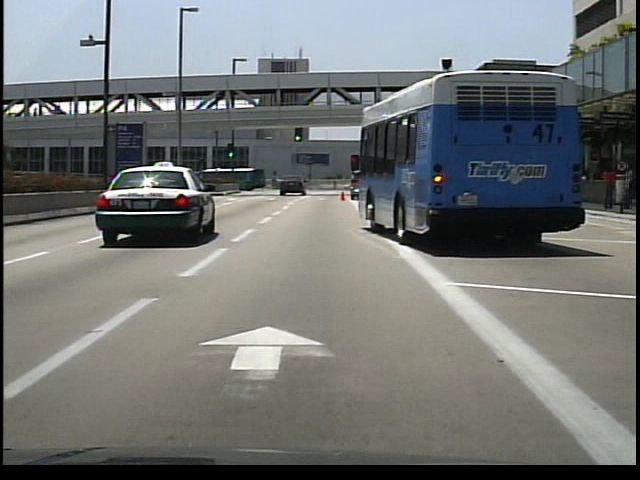person: (599, 160, 617, 213), (624, 164, 635, 213)
